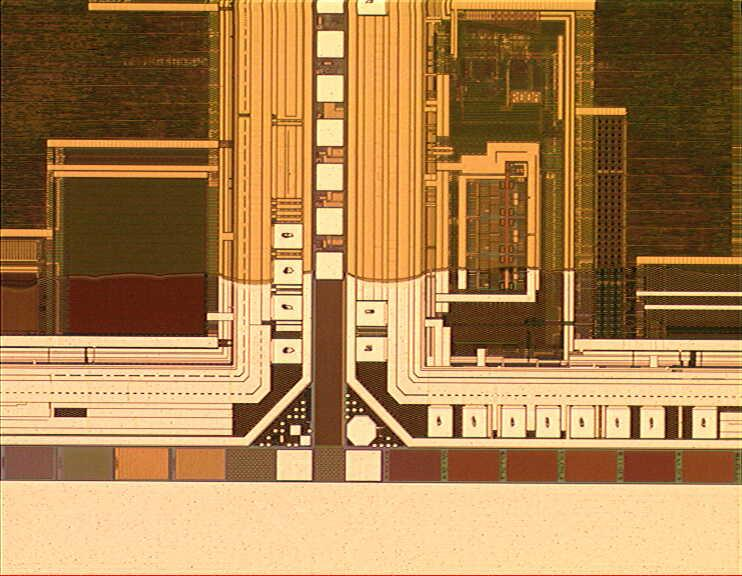COATING BAD: (1, 265, 742, 576)
